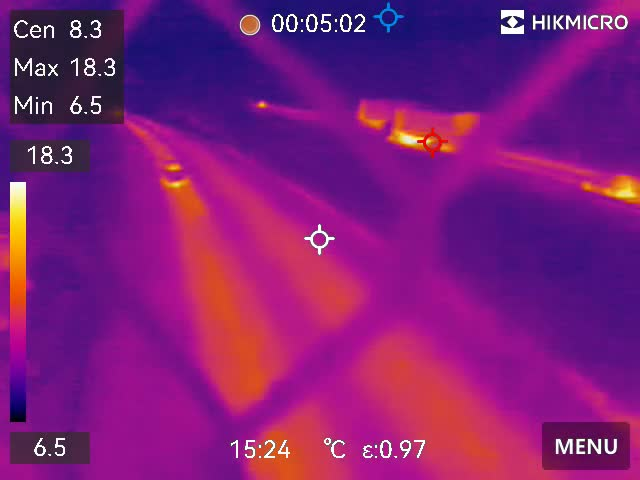heavyTruck: (390, 105, 481, 156), (354, 93, 400, 124)
